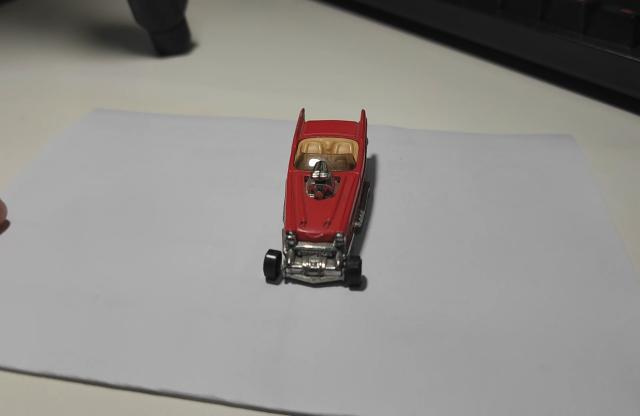03_V8: (262, 109, 378, 293)
